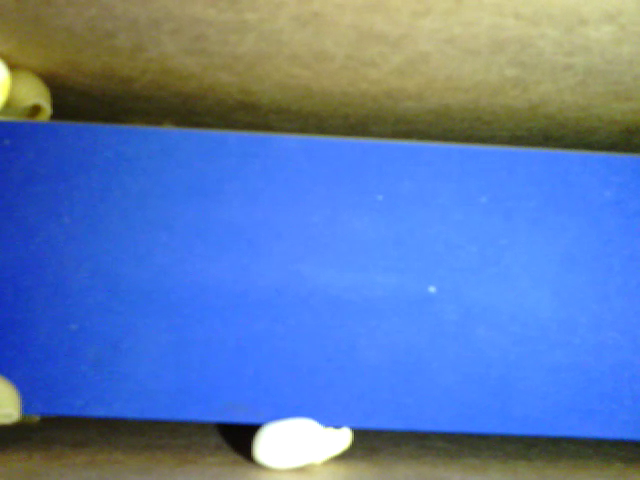shell: (5, 66, 54, 124)
